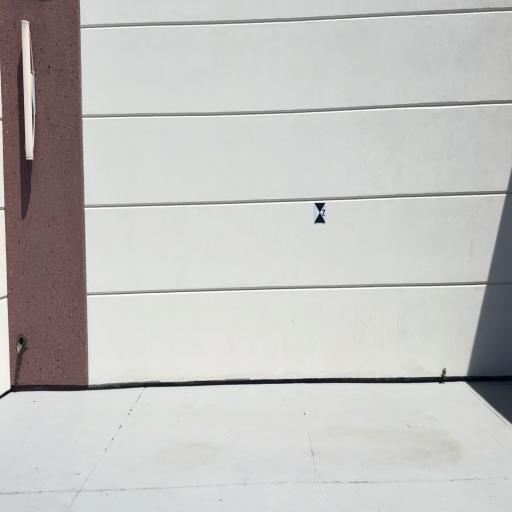target7: (314, 202, 326, 223)
